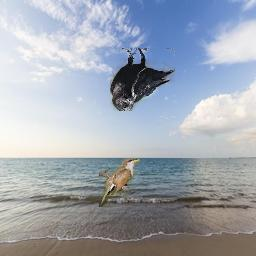Crow: (111, 49, 176, 112)
Cuckoo: (100, 159, 141, 208)
